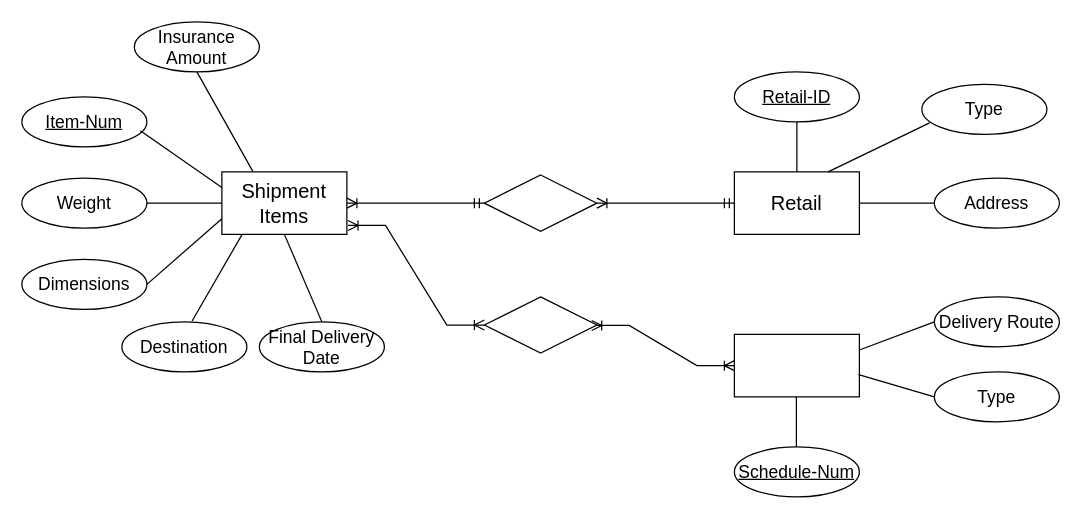
The diagram is 1081 pixels wide and 519 high, and some of its shapes have lost their labels. The shapes that lost their labels are listed below. From the top down, each one's centre as x and y in pixels, then its label:
At point (540, 202): "receive".
At point (540, 324): "make".
At point (796, 365): "Transportation".
